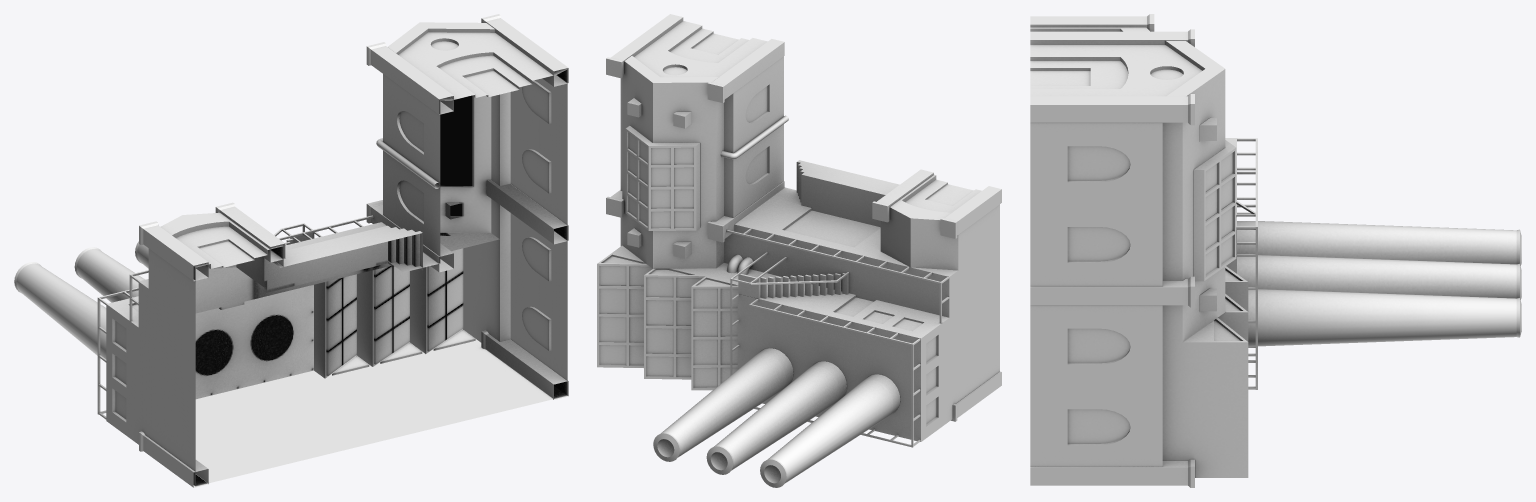
Rendered from BoilerHouse.fbx.
3 renders of one model, left to right at view 1: azimuth 30°, elevation 25°; view 2: azimuth 150°, elevation 25°; view 3: azimuth 270°, elevation 25°, orthographic. The views are drawn at different scales.
Parts seen in each view (by area): view 1: Котельная.001; view 2: Котельная.001; view 3: Котельная.001.
Boxes of the visible parts, left/top/right/bottom form: Котельная.001: left=14, top=14, right=568, bottom=487; Котельная.001: left=597, top=14, right=1001, bottom=487; Котельная.001: left=1030, top=14, right=1521, bottom=487.
Size of the model in its own units: 103 by 100 by 86.18.
